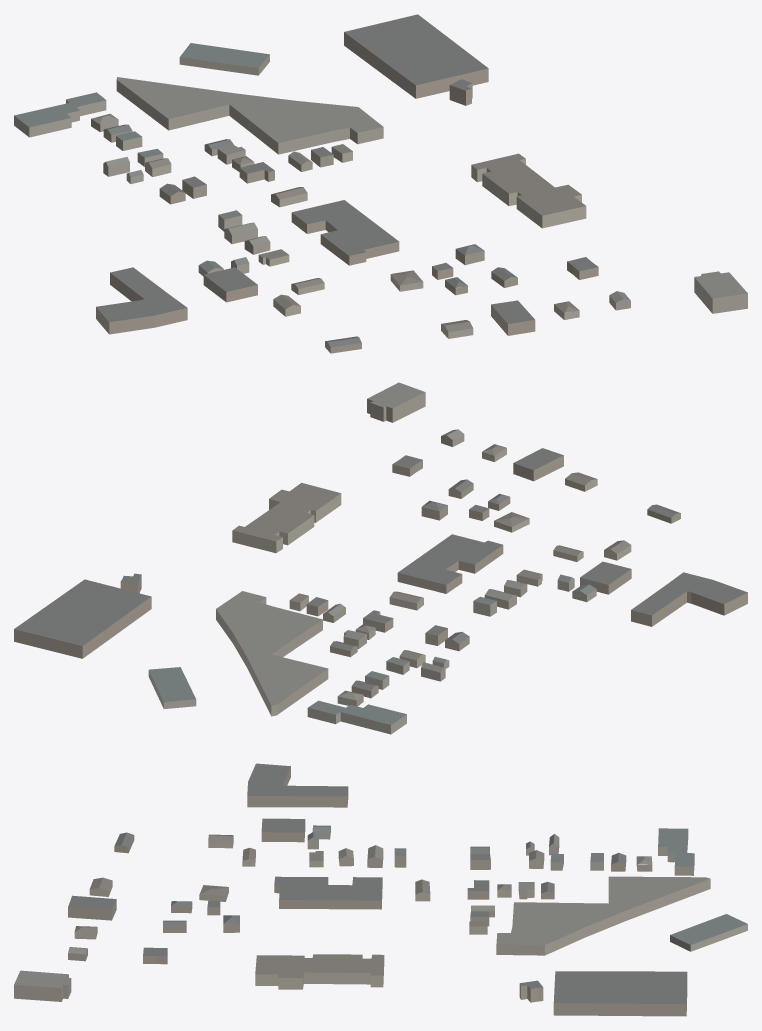
File: d3d0562ab99c-chunk-1198_11838.glb
The picture shows the model from 3 angles, top to bottom: view 1: azimuth 30°, elevation 25°; view 2: azimuth 150°, elevation 25°; view 3: azimuth 270°, elevation 25°; orthographic projection. The views are drawn at different scales.
Visible parts, largest first — view 1: building_81811, building_135349, building_105273, building_114640, building_116308, building_130534, building_72298, building_55901, building_148377, building_16576, building_101569; view 2: building_81811, building_135349, building_105273, building_114640, building_116308, building_130534, building_55901, building_72298, building_16576, building_148377; view 3: building_81811, building_135349, building_105273, building_114640, building_116308, building_72298, building_55901, building_130534, building_16576, building_148377, building_21035, building_69213.
Boxes of the visible parts, x1,y1,x2,y2 form: building_81811: [116, 77, 383, 154]; building_135349: [344, 14, 488, 98]; building_105273: [471, 153, 586, 228]; building_114640: [291, 200, 399, 265]; building_116308: [96, 267, 187, 334]; building_130534: [14, 92, 106, 137]; building_72298: [179, 43, 269, 75]; building_55901: [694, 271, 747, 313]; building_148377: [203, 267, 257, 302]; building_16576: [491, 300, 535, 335]; building_101569: [239, 162, 274, 183]; building_81811: [216, 591, 328, 716]; building_135349: [14, 579, 151, 658]; building_105273: [232, 482, 341, 553]; building_114640: [397, 534, 503, 593]; building_116308: [631, 572, 747, 626]; building_130534: [307, 700, 406, 734]; building_55901: [367, 382, 425, 422]; building_72298: [148, 667, 196, 708]; building_16576: [513, 448, 563, 481]; building_148377: [580, 561, 631, 594]; building_81811: [496, 876, 710, 955]; building_135349: [553, 971, 687, 1016]; building_105273: [255, 954, 384, 989]; building_114640: [274, 876, 382, 909]; building_116308: [247, 763, 348, 807]; building_72298: [670, 914, 747, 951]; building_55901: [14, 970, 71, 1001]; building_130534: [658, 828, 694, 875]; building_16576: [68, 895, 116, 920]; building_148377: [261, 818, 305, 842]; building_21035: [519, 980, 543, 1002]; building_69213: [199, 885, 228, 901].
Bounding box in the file's own units: 324 × 8.7 × 415.
